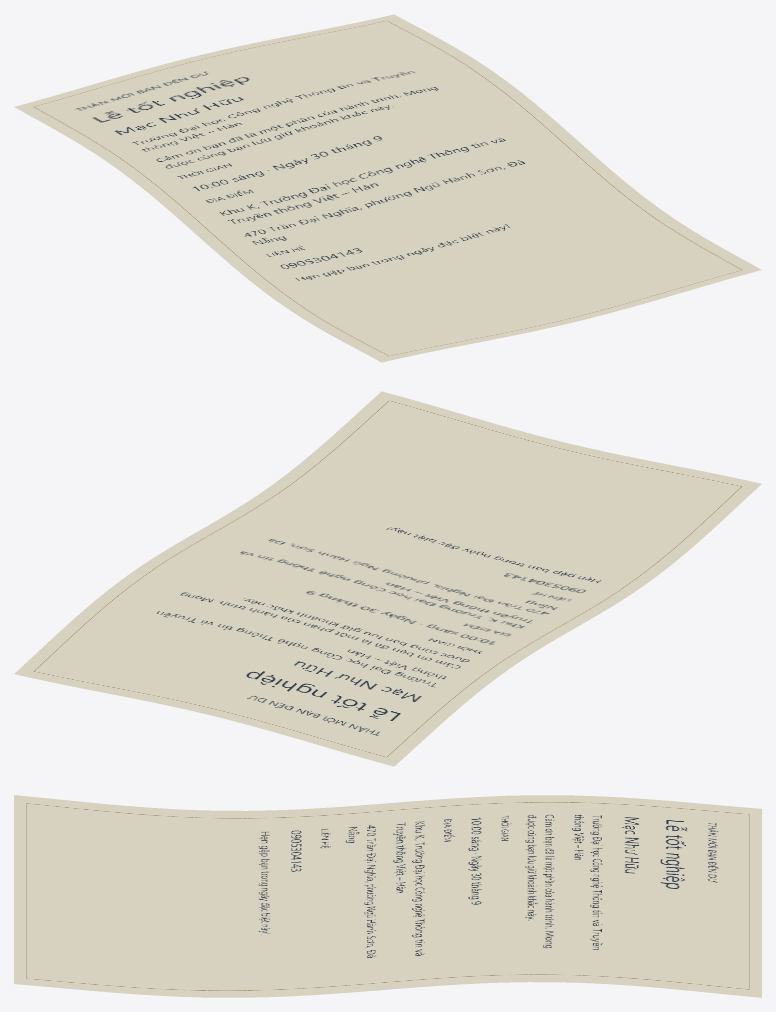
The model's file is graduation-paper.glb.
The picture shows the model from 3 angles, top to bottom: view 1: azimuth 30°, elevation 25°; view 2: azimuth 150°, elevation 25°; view 3: azimuth 270°, elevation 25°; orthographic projection.
Visible parts, largest first — view 1: Graduation_Invitation_Paper; view 2: Graduation_Invitation_Paper; view 3: Graduation_Invitation_Paper.
Boxes of the visible parts, x1=… form: Graduation_Invitation_Paper: x1=14, y1=14, x2=761, y2=362; Graduation_Invitation_Paper: x1=14, y1=391, x2=761, y2=766; Graduation_Invitation_Paper: x1=14, y1=795, x2=761, y2=997.
Bounding box in the file's own units: 2 × 0.1329 × 3.35.
Materials: 1 (1 with a texture image).
